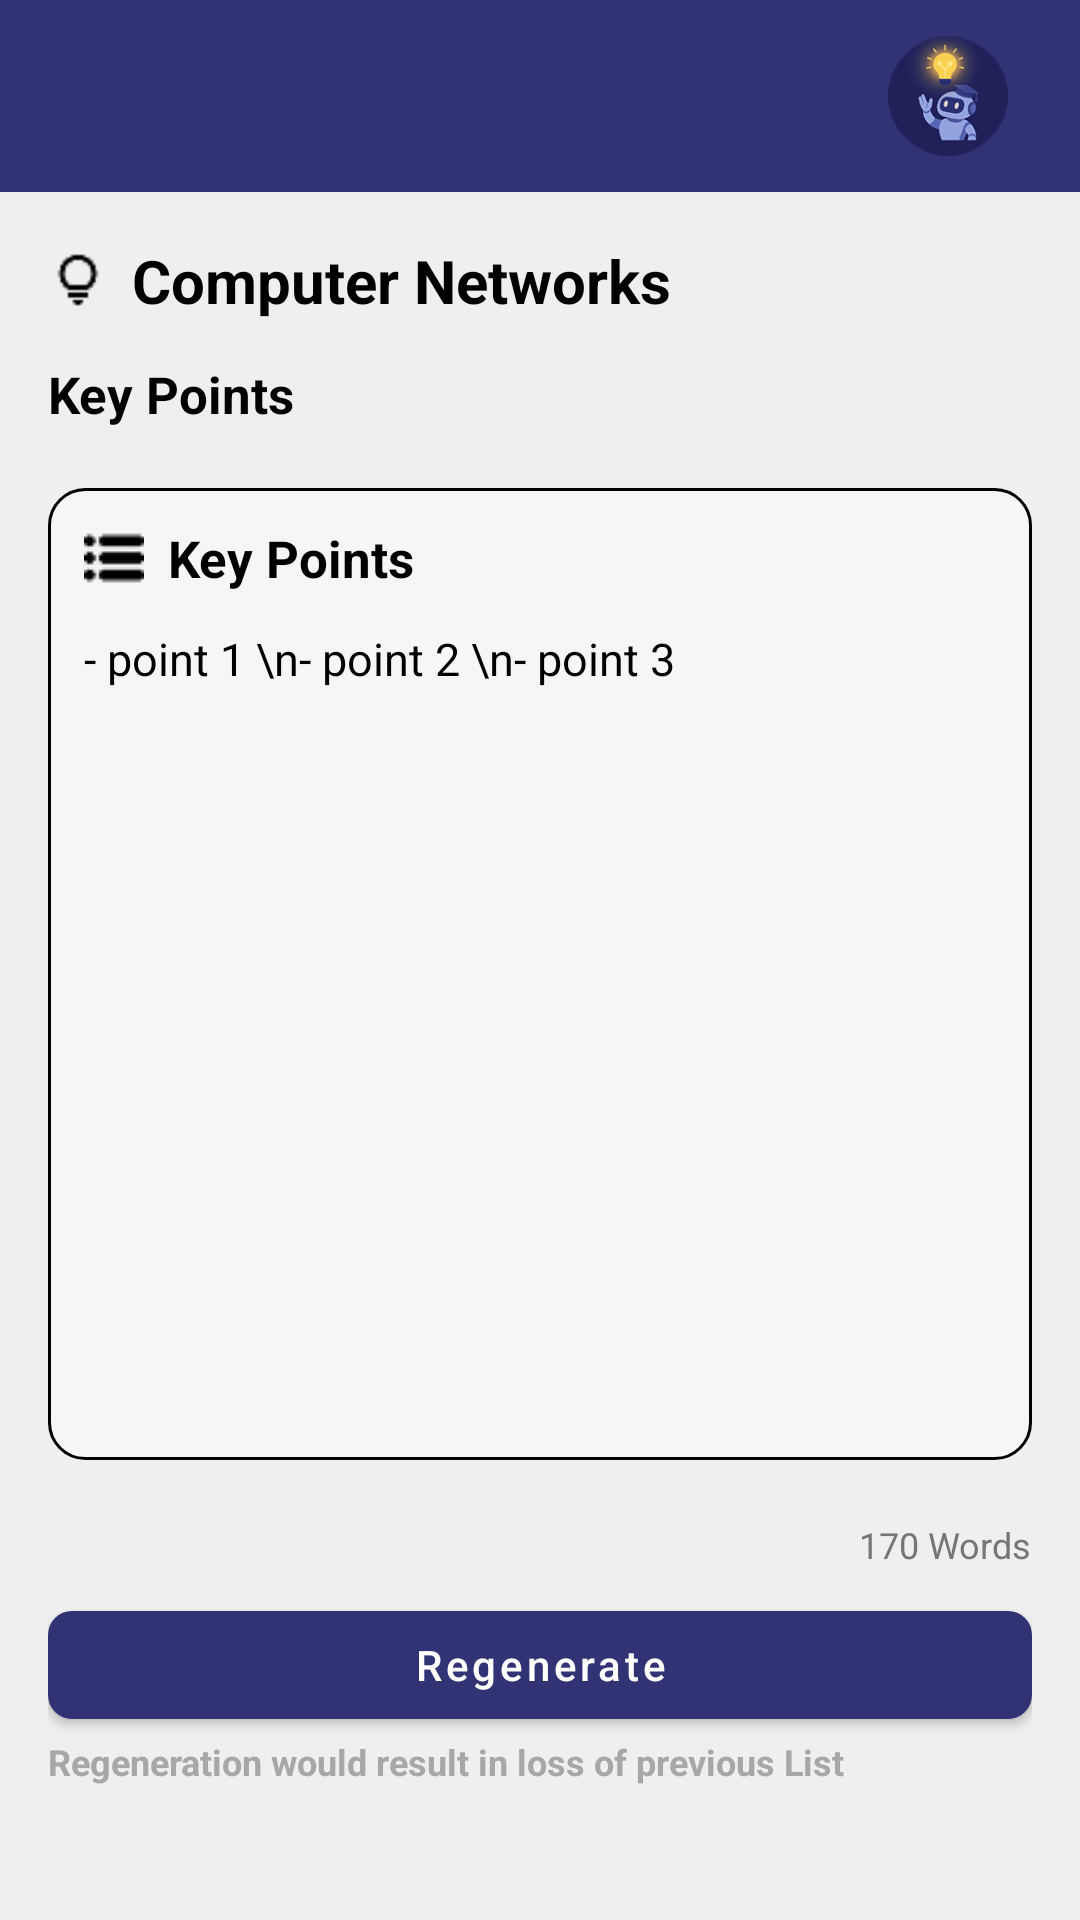

Named icons in this screenshot (1080x1920) and their bounding boxes, region(x1, y1, x2, y2):
list: region(84, 533, 144, 583)
